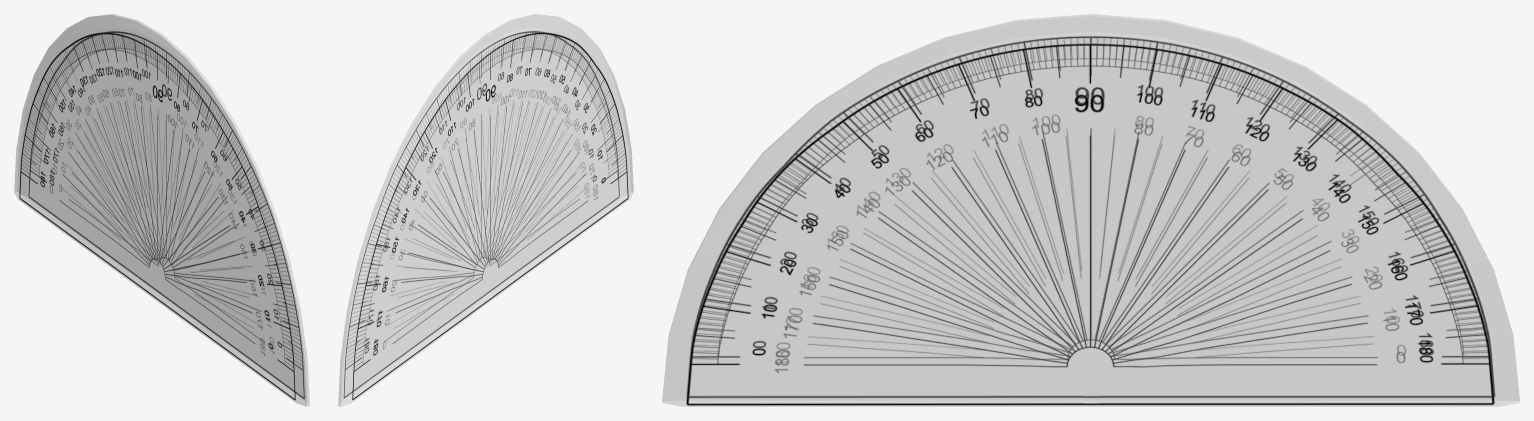
The model's file is Protractor.glb.
3 views of the same model, side by side, from view 1: azimuth 30°, elevation 25°; view 2: azimuth 150°, elevation 25°; view 3: azimuth 270°, elevation 25° (orthographic). The views are drawn at different scales.
Visible parts, largest first — view 1: pCylinder1; view 2: pCylinder1; view 3: pCylinder1.
Part boxes in pixels (x1,y1,x2,y2): pCylinder1: [14, 14, 309, 406]; pCylinder1: [338, 14, 633, 406]; pCylinder1: [662, 14, 1519, 406].
Size of the model in its own units: 0.00202 by 0.0573 by 0.1146.
Materials: 1 (1 with a texture image).
